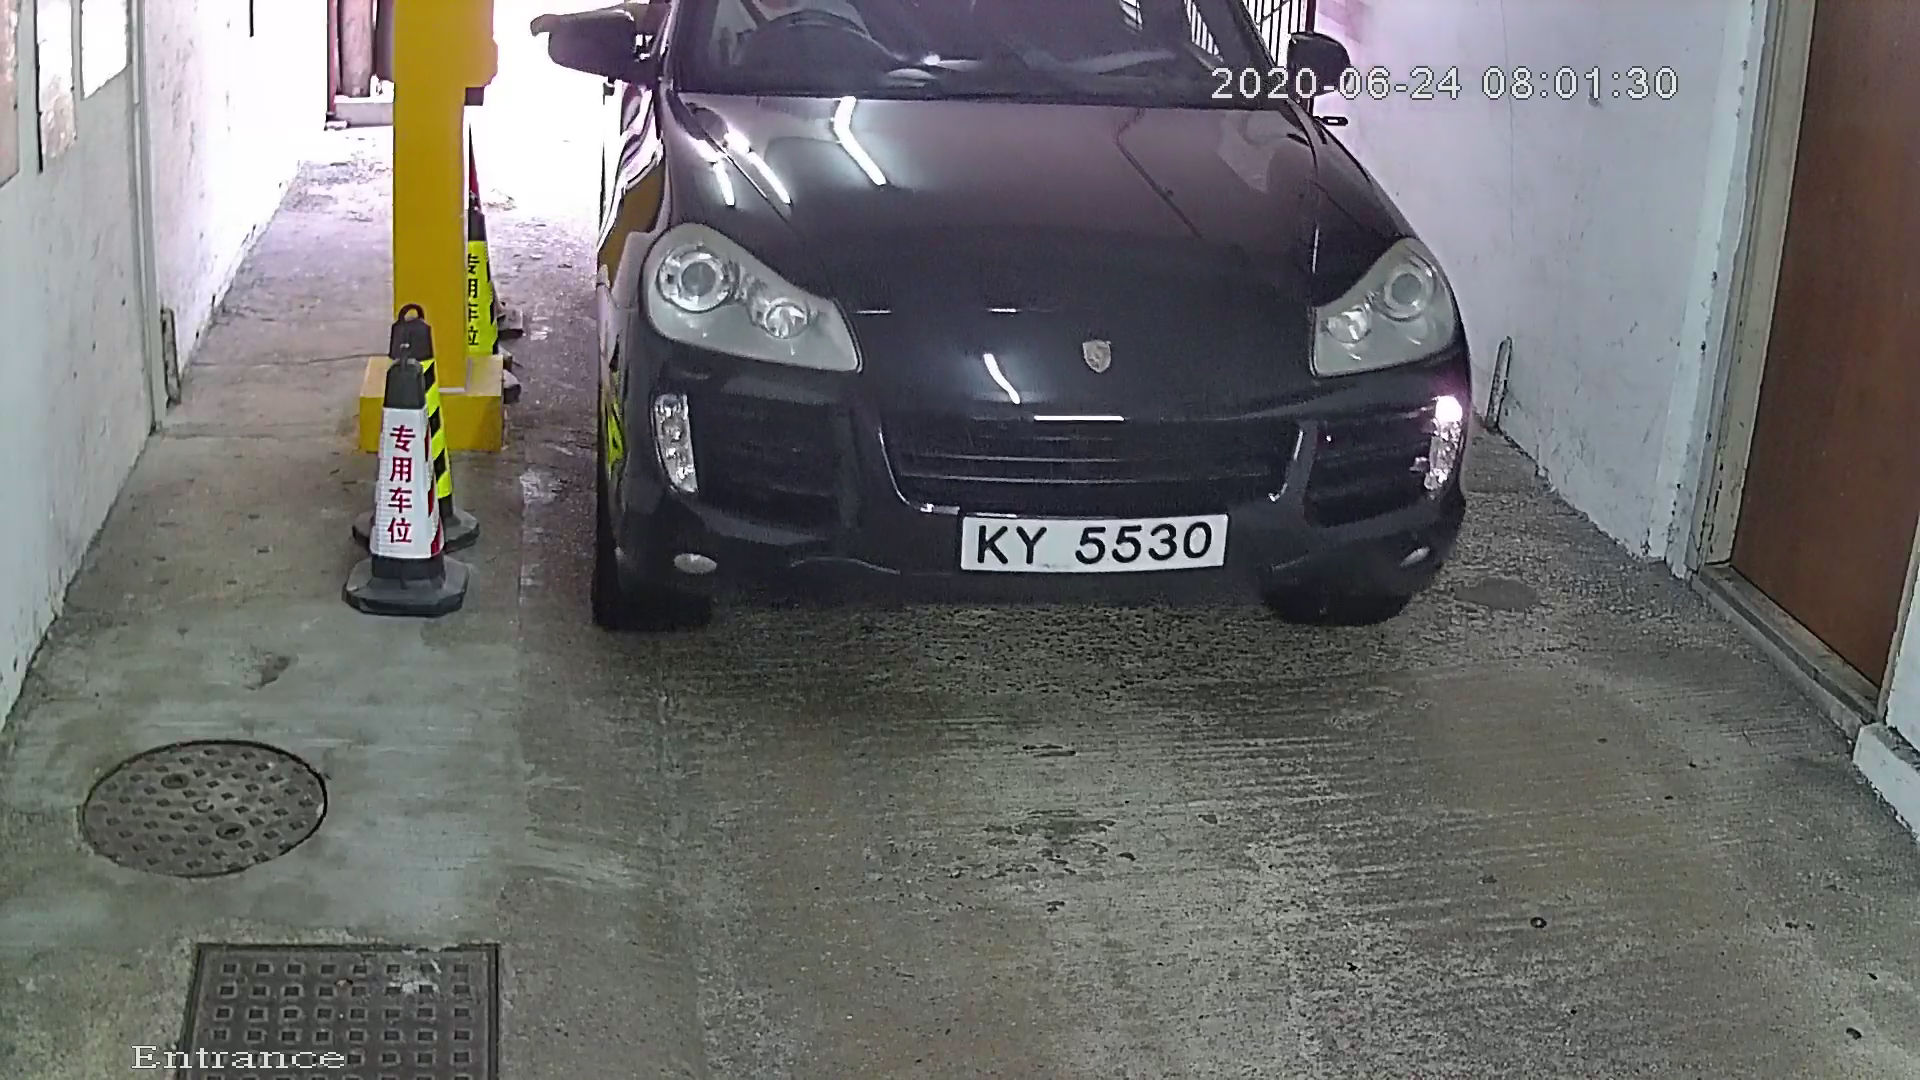privatecar: (516, 1, 1516, 690)
